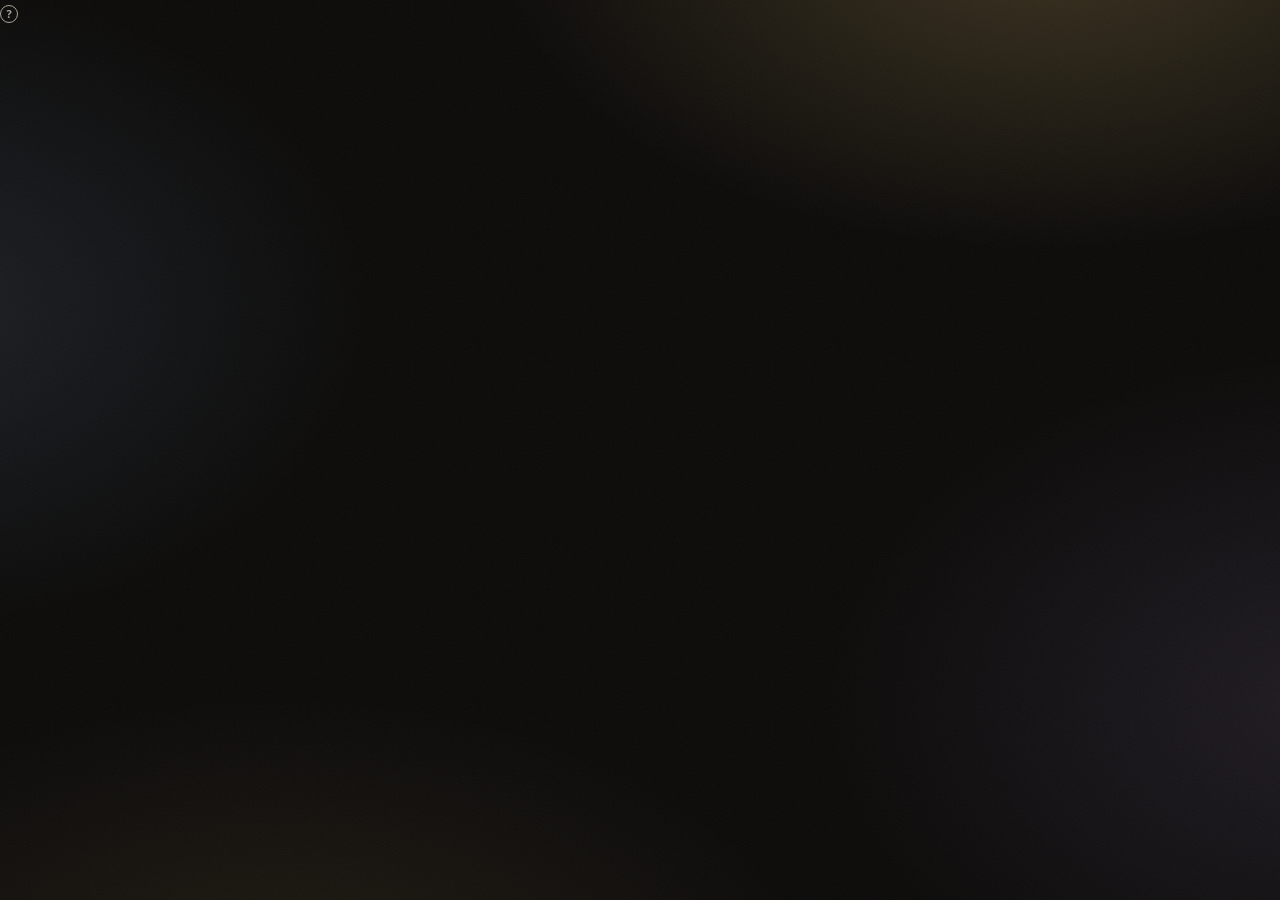
Scenario: Escape closes it
The width and height of the screenshot is (1280, 900).
Step 1. Click the button named "Lot" → click(9, 14), box [0,5,18,23]
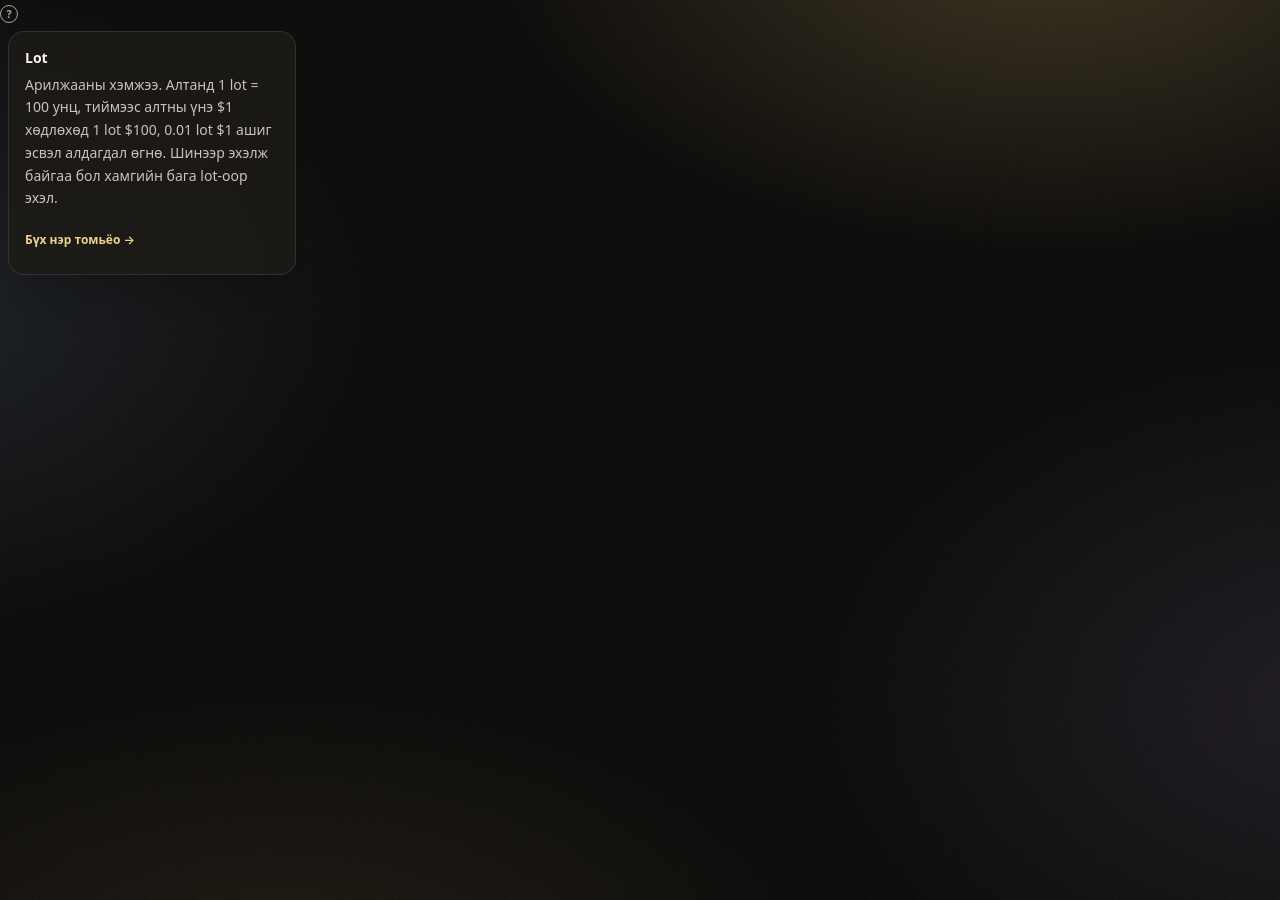
Now the dialog is shown, box [8,31,296,275]
Step 2. Press Escape
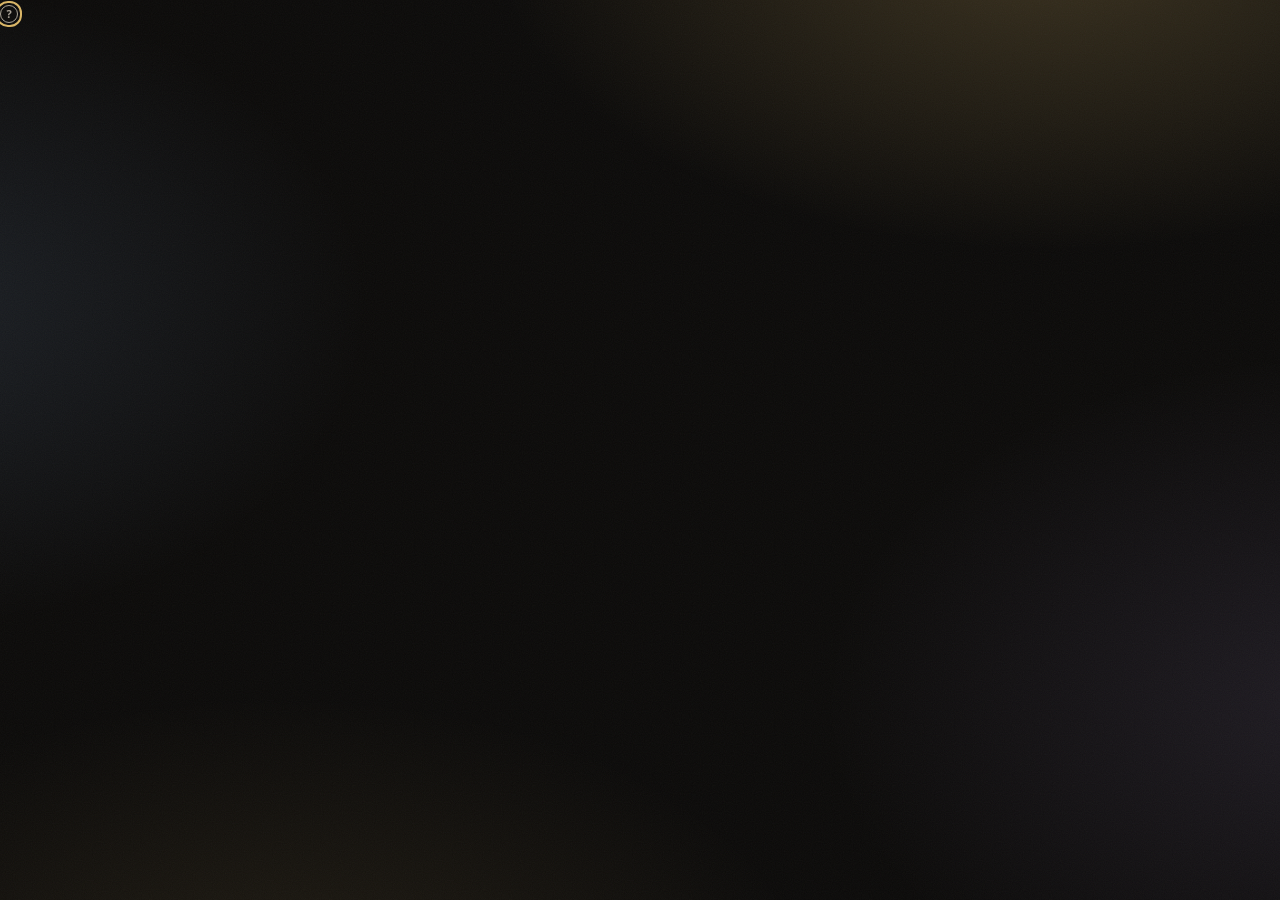
Now the dialog is gone
